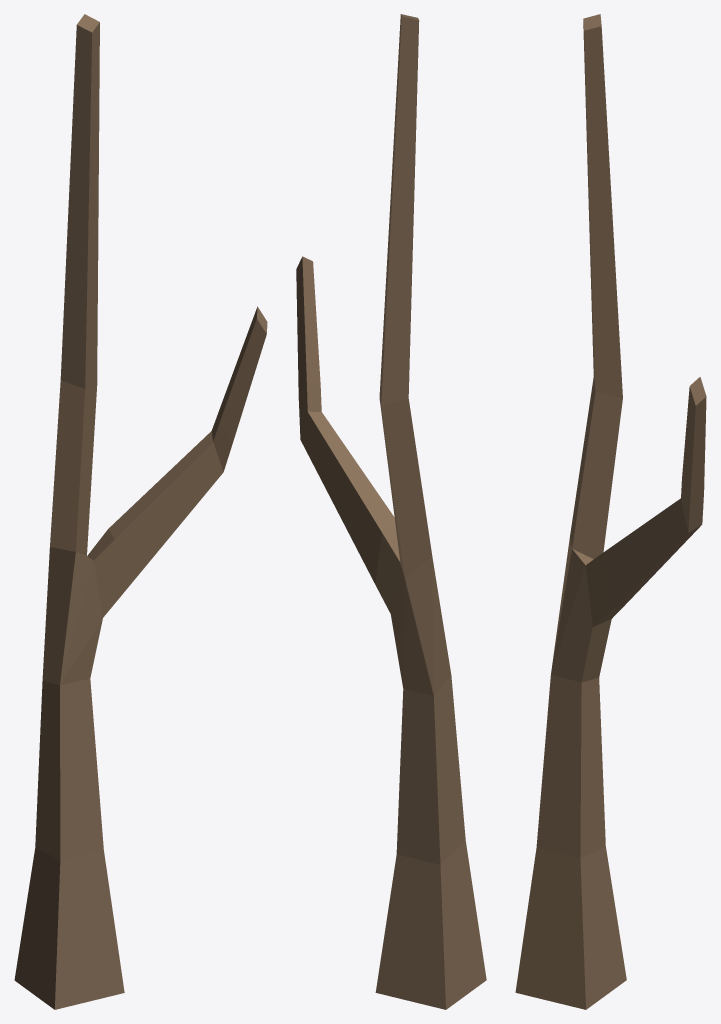
The model's file is Trunk_2.fbx.
3 renders of one model, left to right at view 1: azimuth 30°, elevation 25°; view 2: azimuth 150°, elevation 25°; view 3: azimuth 330°, elevation 25°, orthographic.
Parts seen in each view (by area): view 1: M_Trunk 2; view 2: M_Trunk 2; view 3: M_Trunk 2.
Boxes of the visible parts, x1,y1,x2,y2 form: M_Trunk 2: (14, 14, 267, 1009); M_Trunk 2: (296, 14, 486, 1009); M_Trunk 2: (515, 14, 706, 1009).
Bounding box in the file's own units: 39.56 × 181 × 20.55.
1 material, 1 textured.
